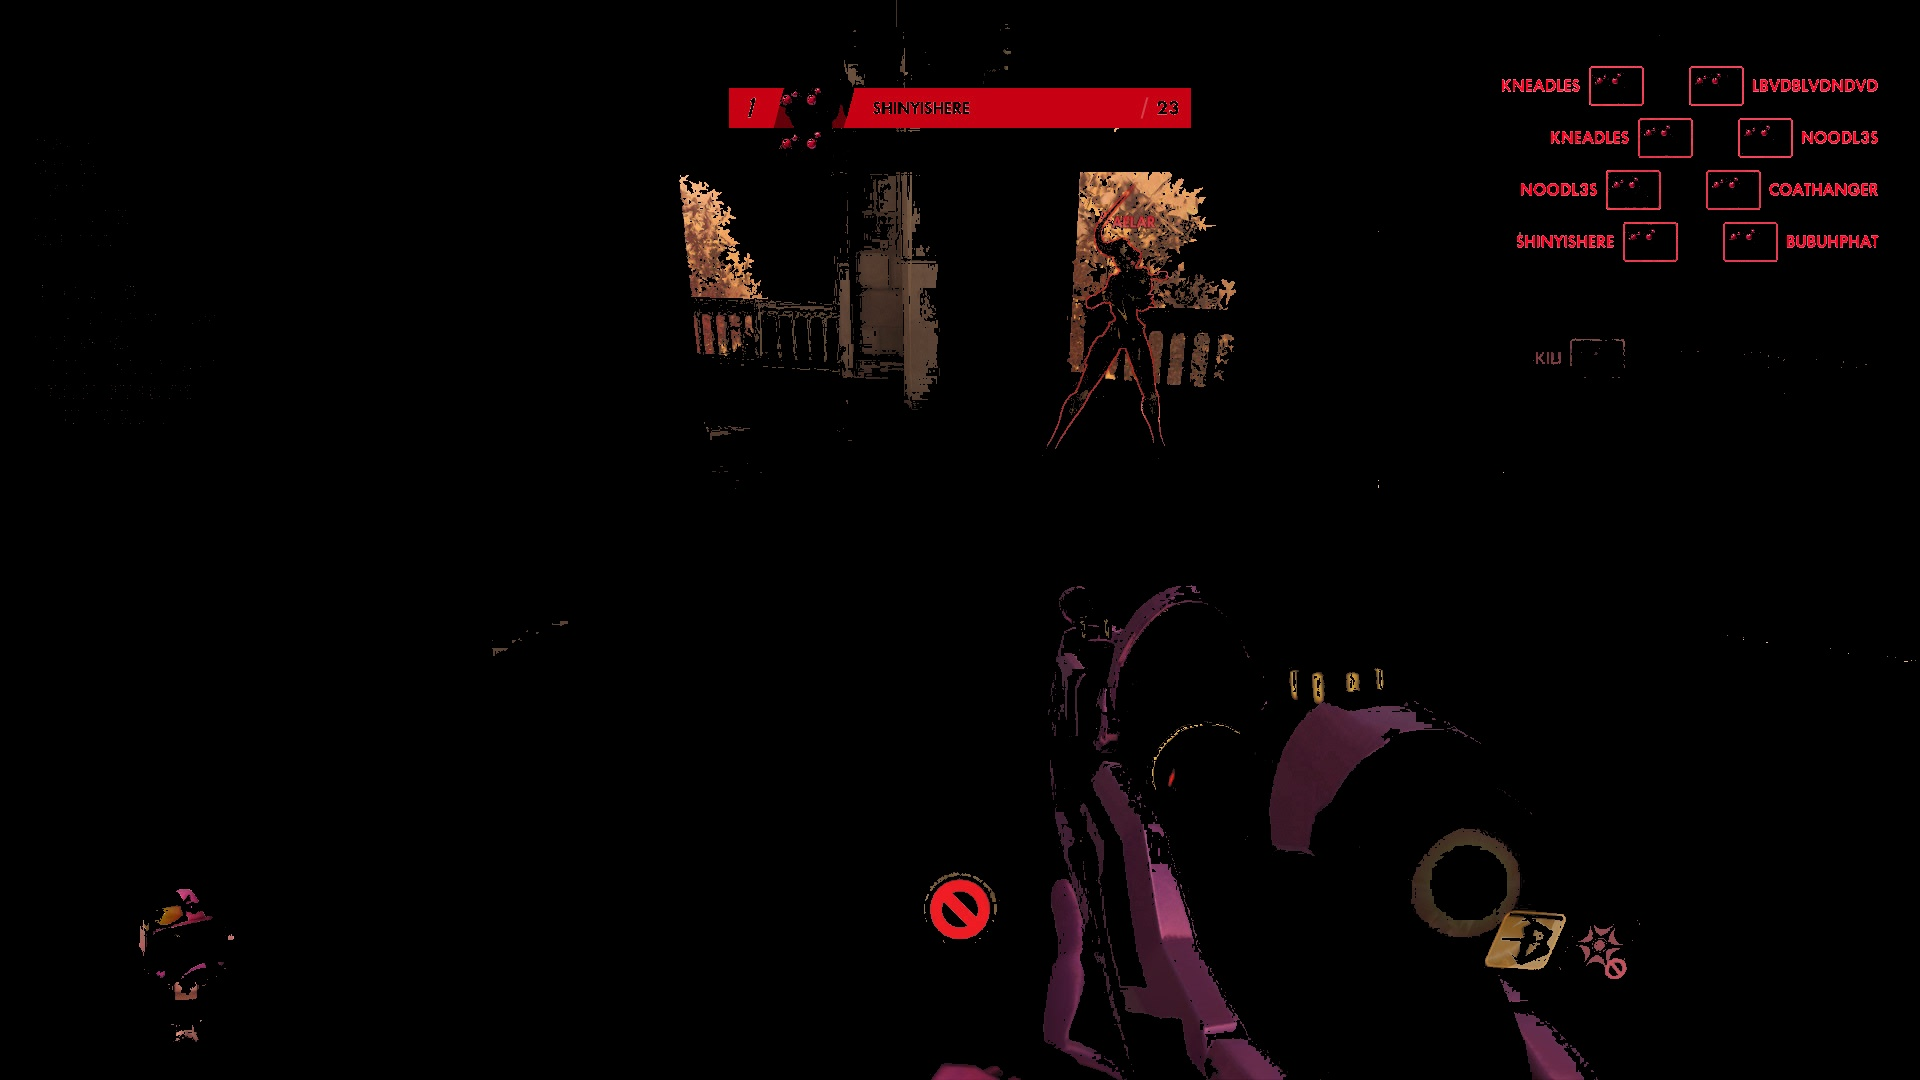widowmaker: (1033, 237, 1170, 473)
